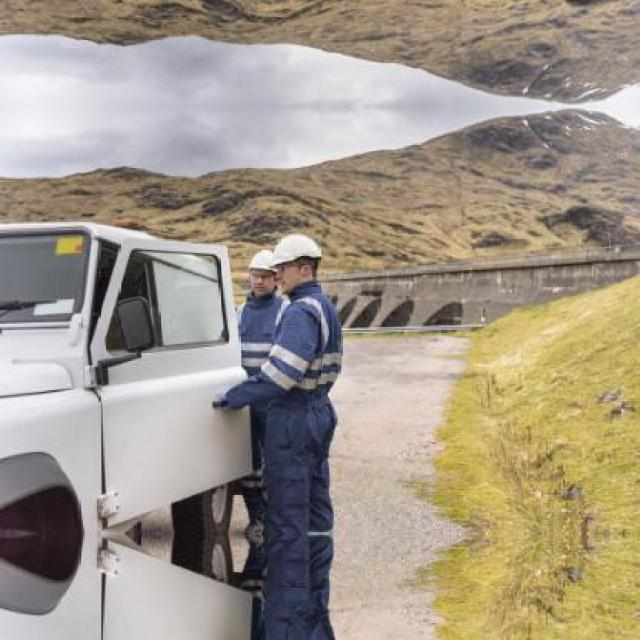helmet: (272, 229, 322, 288), (244, 247, 282, 294)
